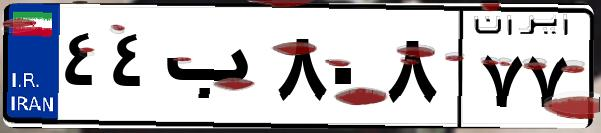0: (330, 28, 385, 110)
4: (57, 26, 110, 100), (110, 28, 158, 98)
7: (475, 38, 525, 113), (525, 38, 570, 115)
8: (270, 28, 330, 110), (385, 28, 445, 110)
ب: (158, 20, 270, 120)
